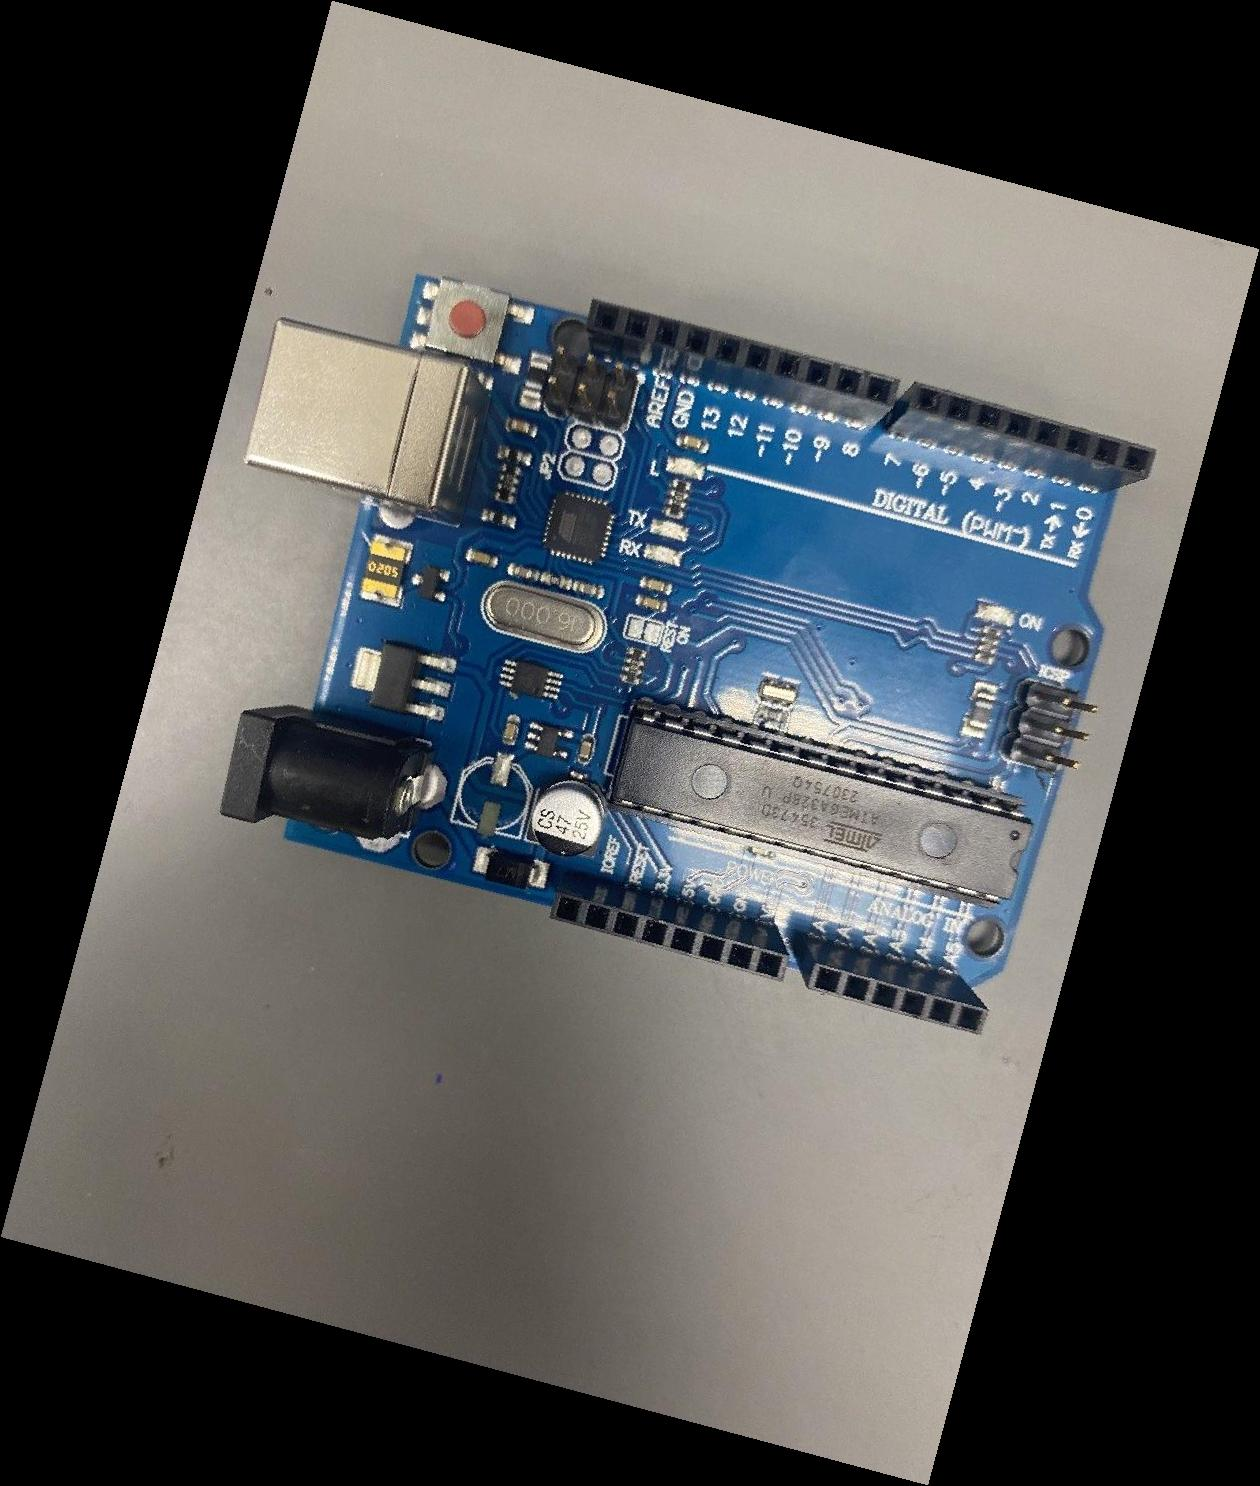ATmega328 chip: (605, 699, 1035, 910)
Arduino board: (216, 274, 1156, 1037)
USB: (241, 314, 491, 526)
capacitor: (524, 774, 611, 857)
pins: (585, 297, 900, 430), (884, 379, 1156, 495), (550, 869, 790, 984), (792, 932, 989, 1035)
resistor: (507, 477, 849, 521), (817, 625, 1159, 667), (464, 644, 805, 686), (337, 464, 677, 505)
